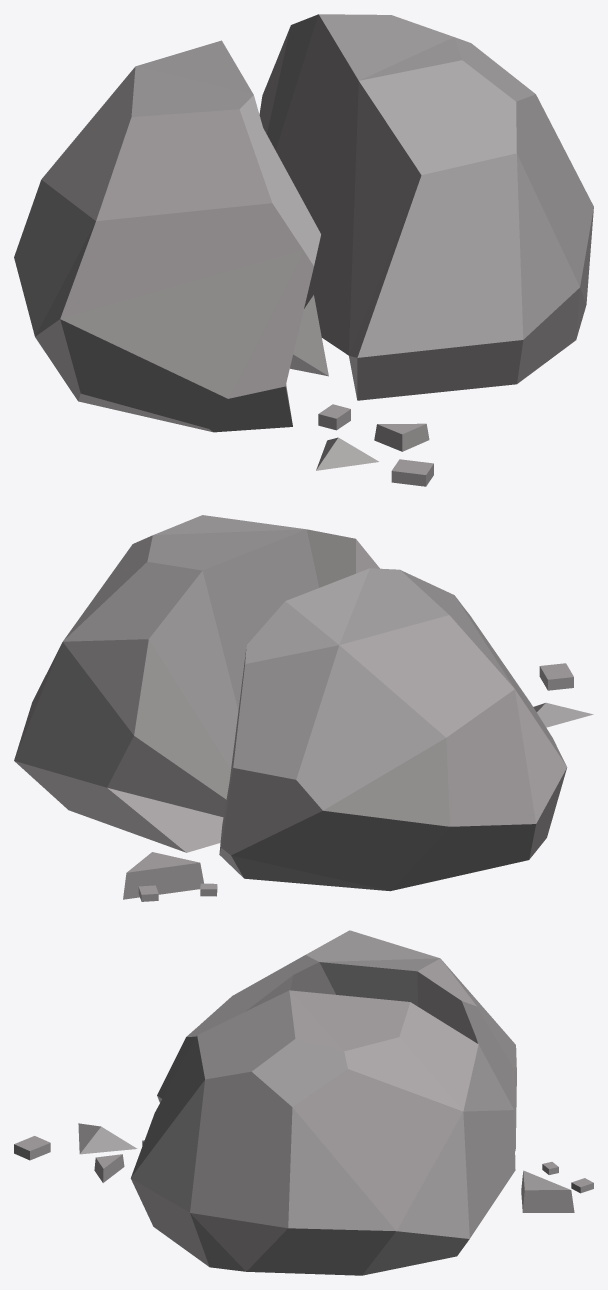
The model's file is Rock_Round_crk_m_05.fbx.
The picture shows the model from 3 angles, top to bottom: view 1: azimuth 30°, elevation 25°; view 2: azimuth 150°, elevation 25°; view 3: azimuth 270°, elevation 25°; orthographic projection. The views are drawn at different scales.
Parts seen in each view (by area): view 1: Rock_Round_crk_m_05; view 2: Rock_Round_crk_m_05; view 3: Rock_Round_crk_m_05.
Boxes of the visible parts, x1,y1,x2,y2 form: Rock_Round_crk_m_05: (14, 14, 593, 486); Rock_Round_crk_m_05: (14, 515, 593, 901); Rock_Round_crk_m_05: (14, 930, 593, 1275).
Bounding box in the file's own units: 141 × 75.53 × 169.
